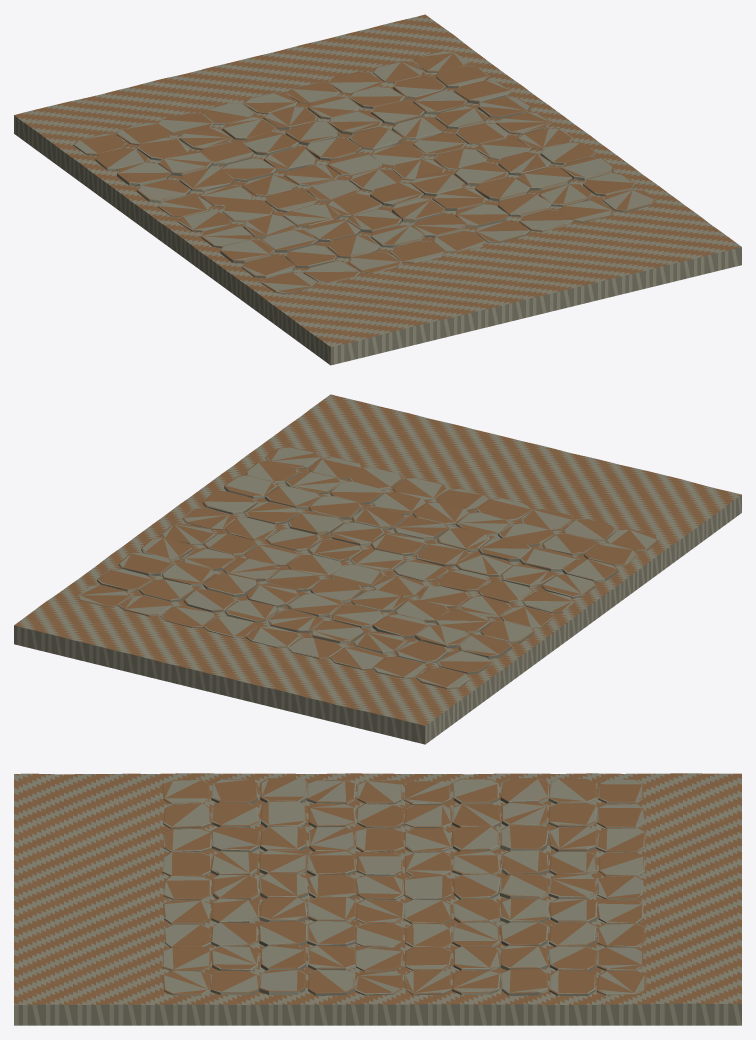
The model's file is rocky_stone_steps.dae.
3 renders of one model, top to bottom at view 1: azimuth 30°, elevation 25°; view 2: azimuth 150°, elevation 25°; view 3: azimuth 270°, elevation 25°, orthographic. The views are drawn at different scales.
Parts seen in each view (by area): view 1: terrain_node; view 2: terrain_node; view 3: terrain_node.
Part boxes in pixels (x1,y1,x2,y2): terrain_node: (14,14,741,365); terrain_node: (14,394,741,744); terrain_node: (14,773,741,1025).
Size of the model in its own units: 6 by 8 by 0.3032.
